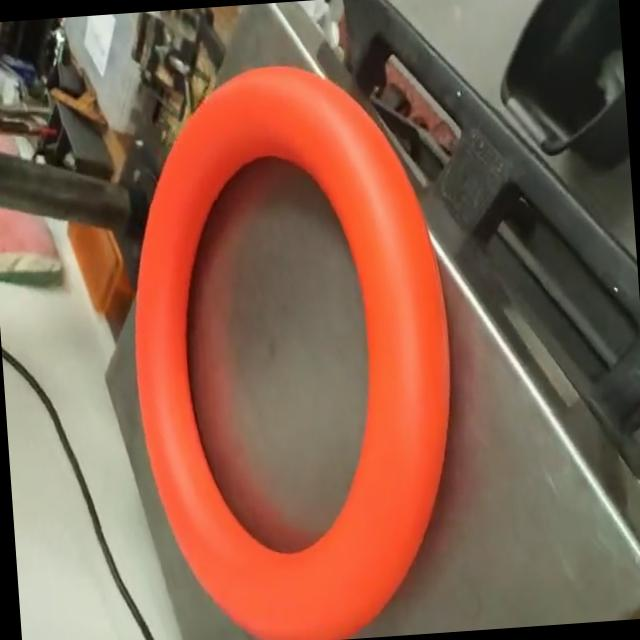note: (110, 48, 476, 640)
